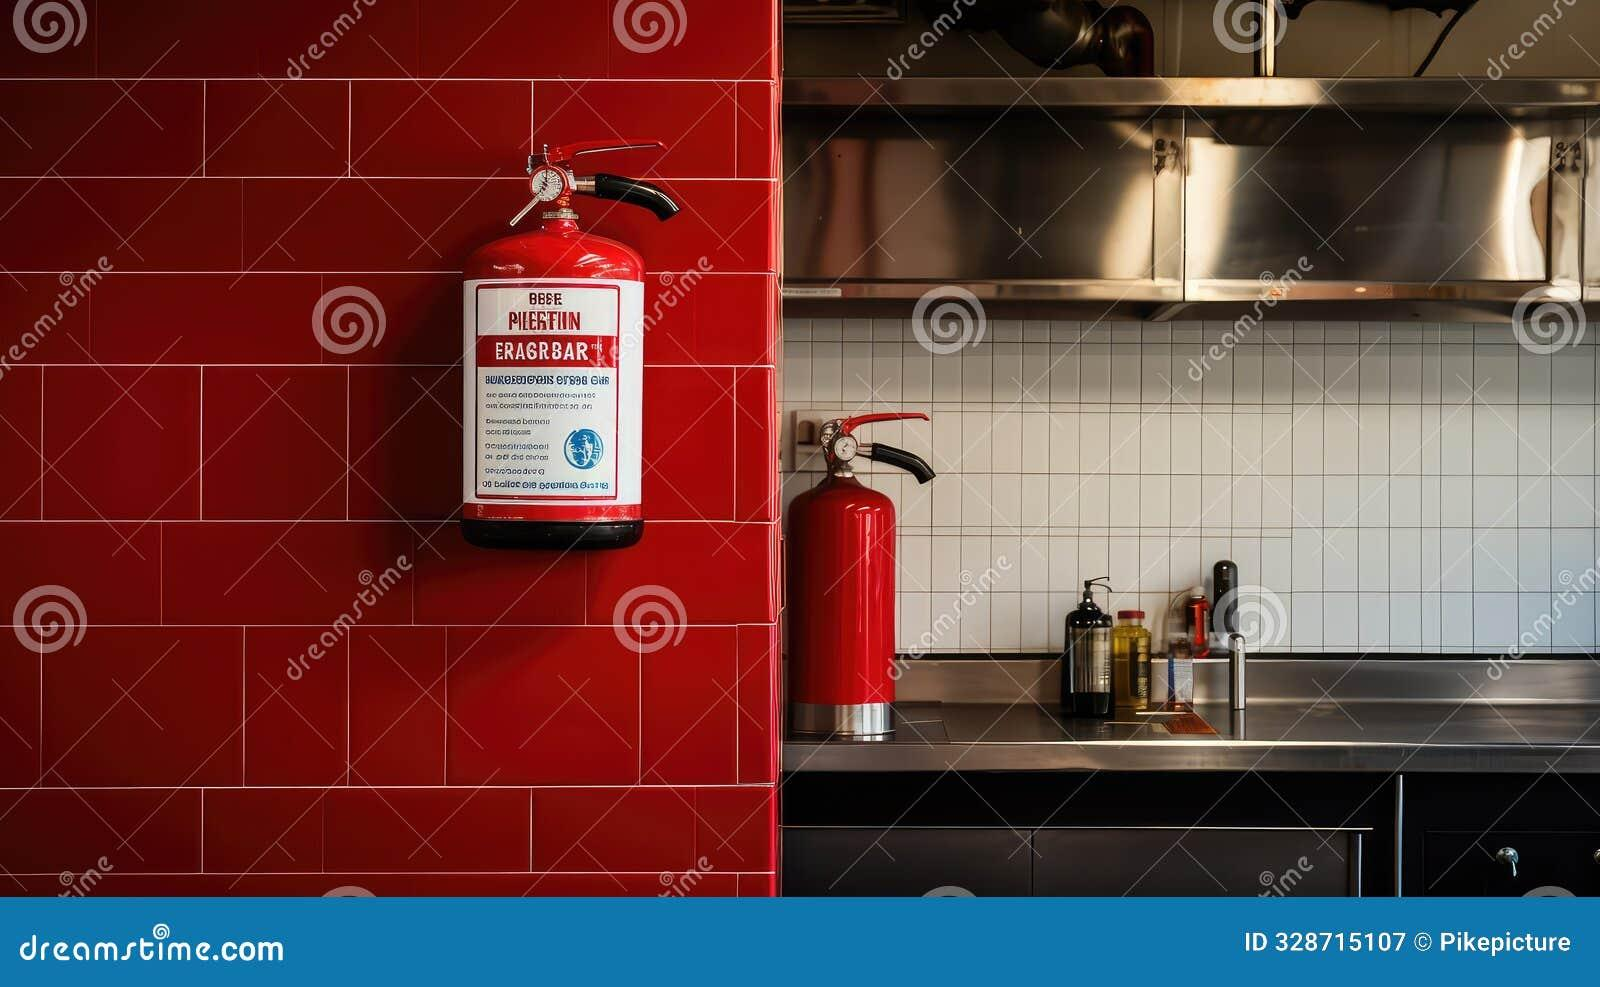wall-mounted: (401, 112, 712, 603)
